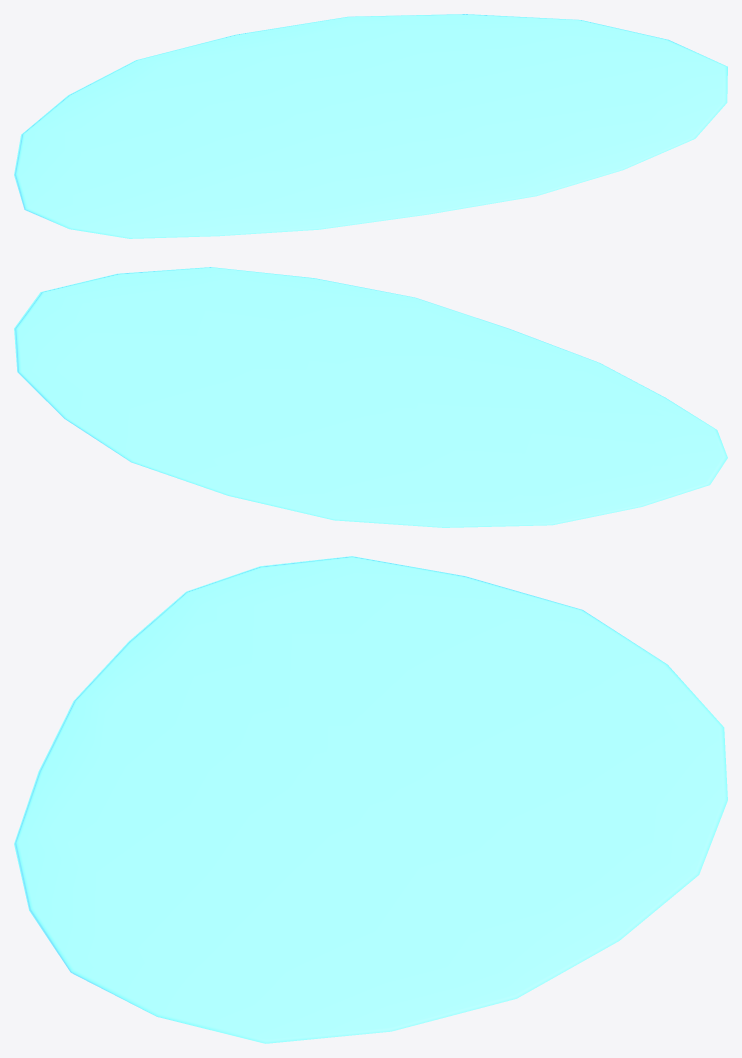
Rendered from ooze_puddle_a.glb.
The picture shows the model from 3 angles, top to bottom: view 1: azimuth 30°, elevation 25°; view 2: azimuth 150°, elevation 25°; view 3: azimuth 270°, elevation 25°; orthographic projection. The views are drawn at different scales.
Parts seen in each view (by area): view 1: ooze_puddle_a; view 2: ooze_puddle_a; view 3: ooze_puddle_a.
Boxes of the visible parts, <box> form: ooze_puddle_a: <box>14,14,727,238</box>; ooze_puddle_a: <box>14,267,727,527</box>; ooze_puddle_a: <box>14,556,727,1043</box>.
Bounding box in the file's own units: 1.73 × 0.0506 × 1.07.
